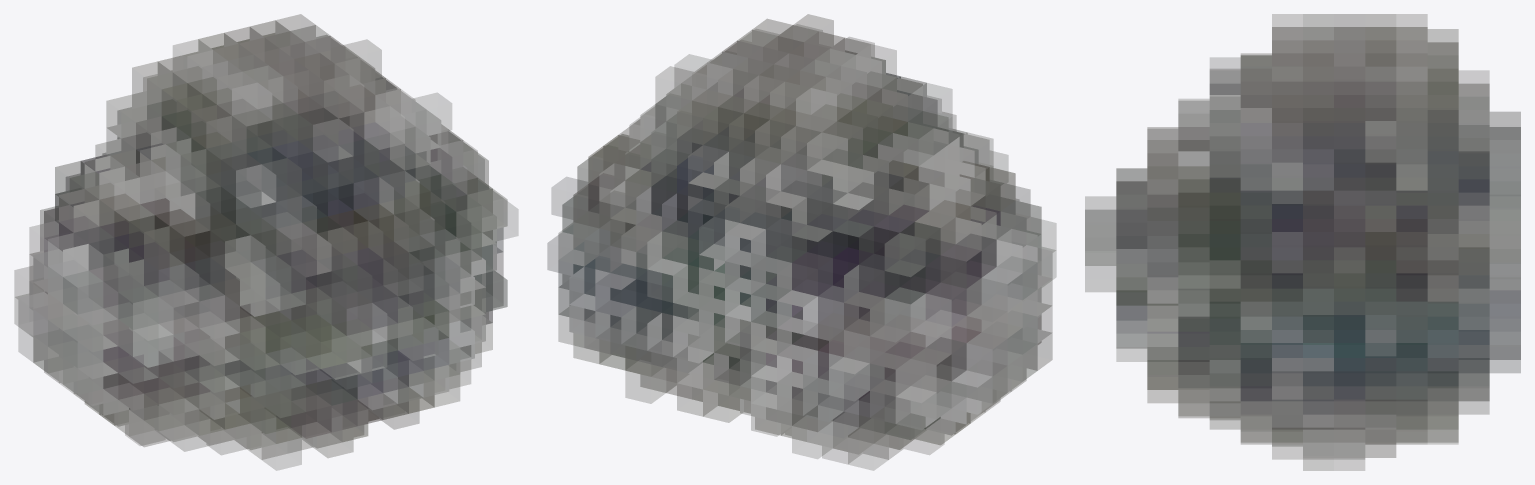
Rendered from iter_20.obj.
3 views of the same model, side by side, from view 1: azimuth 30°, elevation 25°; view 2: azimuth 150°, elevation 25°; view 3: azimuth 270°, elevation 25° (orthographic). The views are drawn at different scales.
Parts seen in each view (by area): view 1: iter_20; view 2: iter_20; view 3: iter_20.
Part boxes in pixels (bbox=[...]): iter_20: bbox=[14, 14, 517, 470]; iter_20: bbox=[547, 14, 1056, 470]; iter_20: bbox=[1085, 14, 1520, 470].
Bounding box in the file's own units: 1.7 × 1.3 × 1.4.
